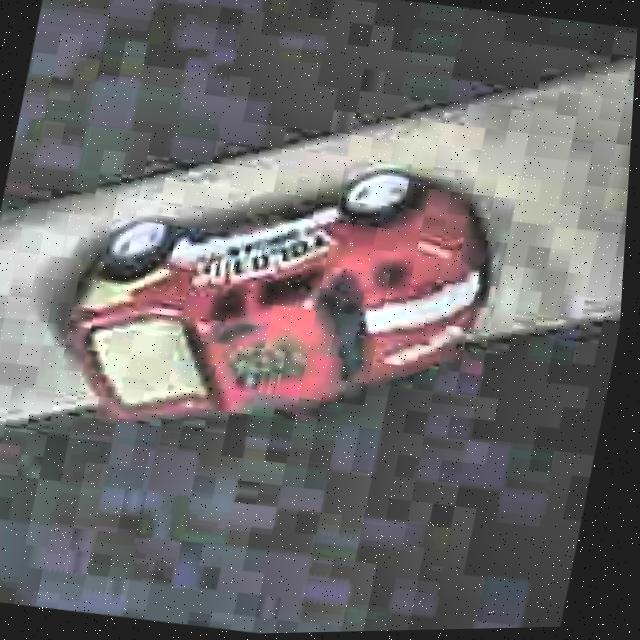car: (40, 120, 516, 476)
